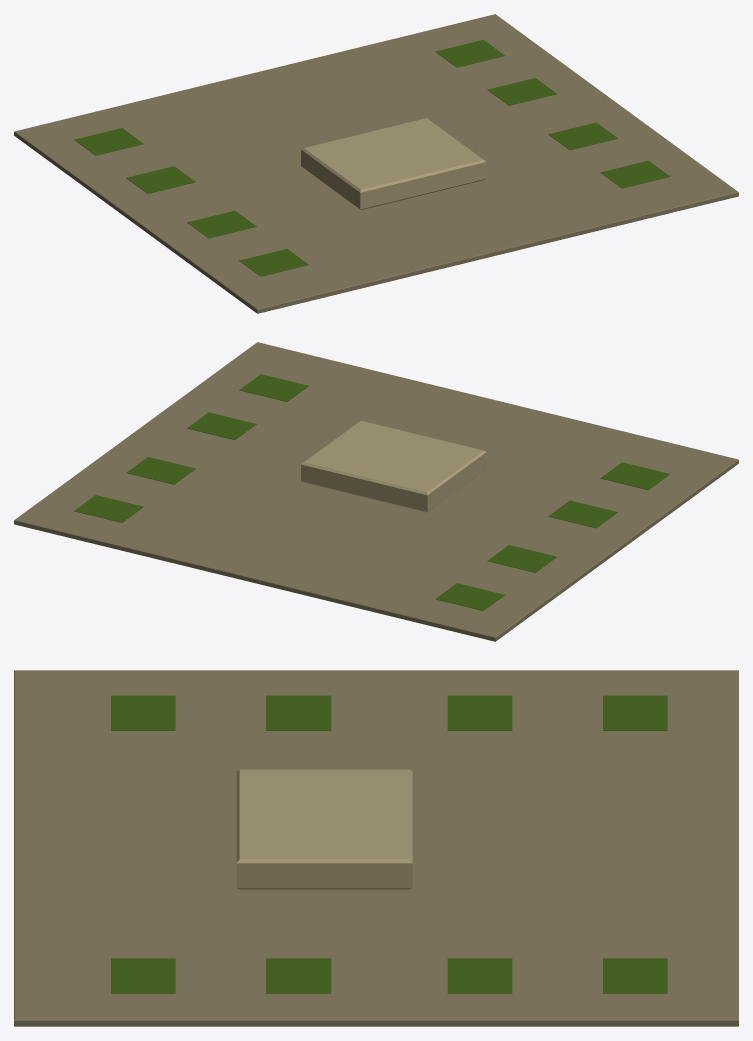
The model's file is courtyard.obj.
3 renders of one model, top to bottom at view 1: azimuth 30°, elevation 25°; view 2: azimuth 150°, elevation 25°; view 3: azimuth 270°, elevation 25°, orthographic. The views are drawn at different scales.
Parts seen in each view (by area): view 1: courtyard; view 2: courtyard; view 3: courtyard.
Boxes of the visible parts, x1,y1,x2,y2 form: courtyard: (14,14,738,313); courtyard: (14,342,738,641); courtyard: (14,670,738,1026).
Bounding box in the file's own units: 32 × 1.6 × 28.
